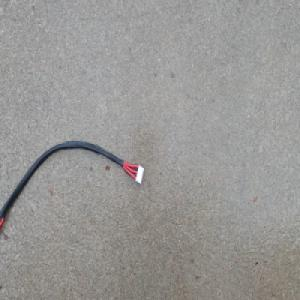Wire: (0, 138, 144, 232)
